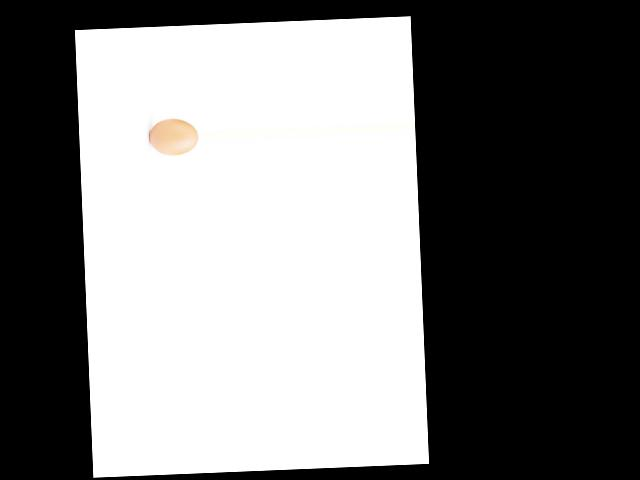egg: (148, 117, 198, 155)
